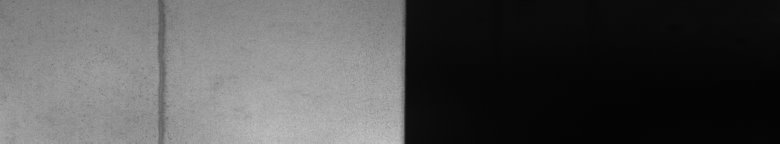hd: (148, 4, 172, 136)
